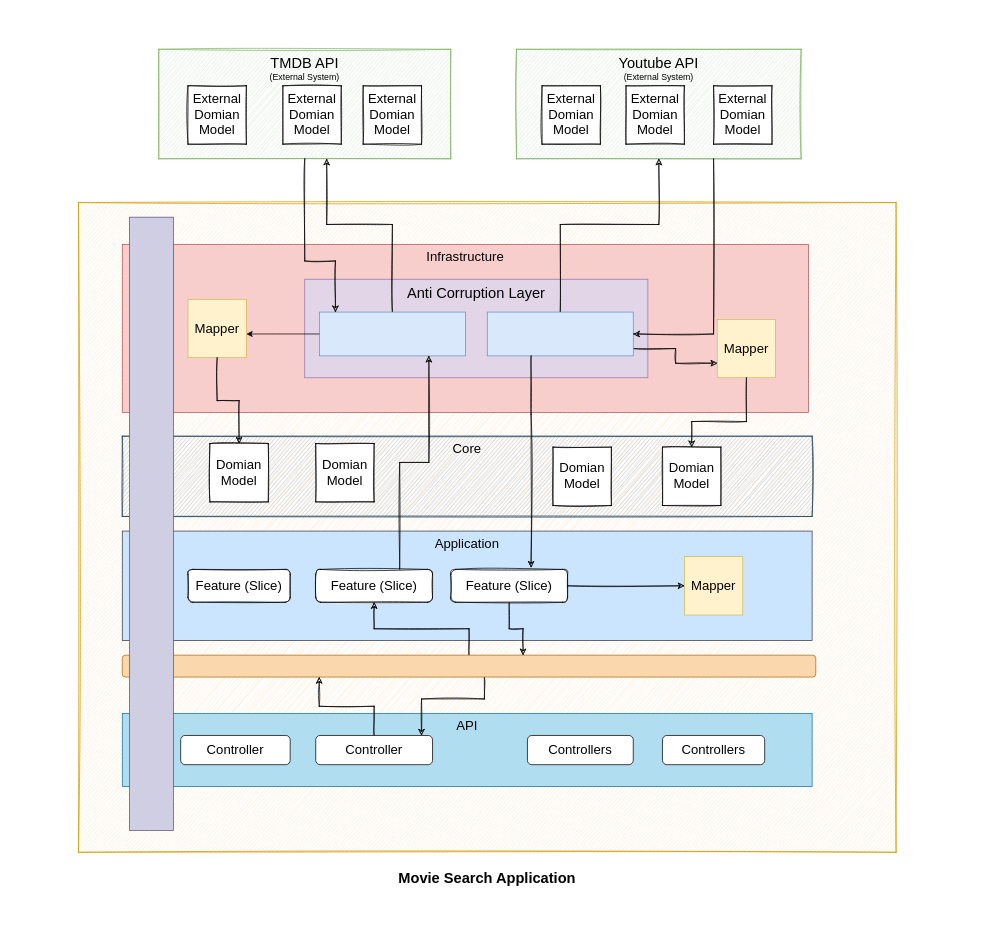
This 988x930 diagram has some shape labels left out. Each missing label, with the centre of its shape:
"Mediator" goes at point 469,665.
"Slices" goes at point 151,523.
"TMDBServiceClient" goes at point 392,333.
"YoutubeVideoServiceClient" goes at point 560,333.
